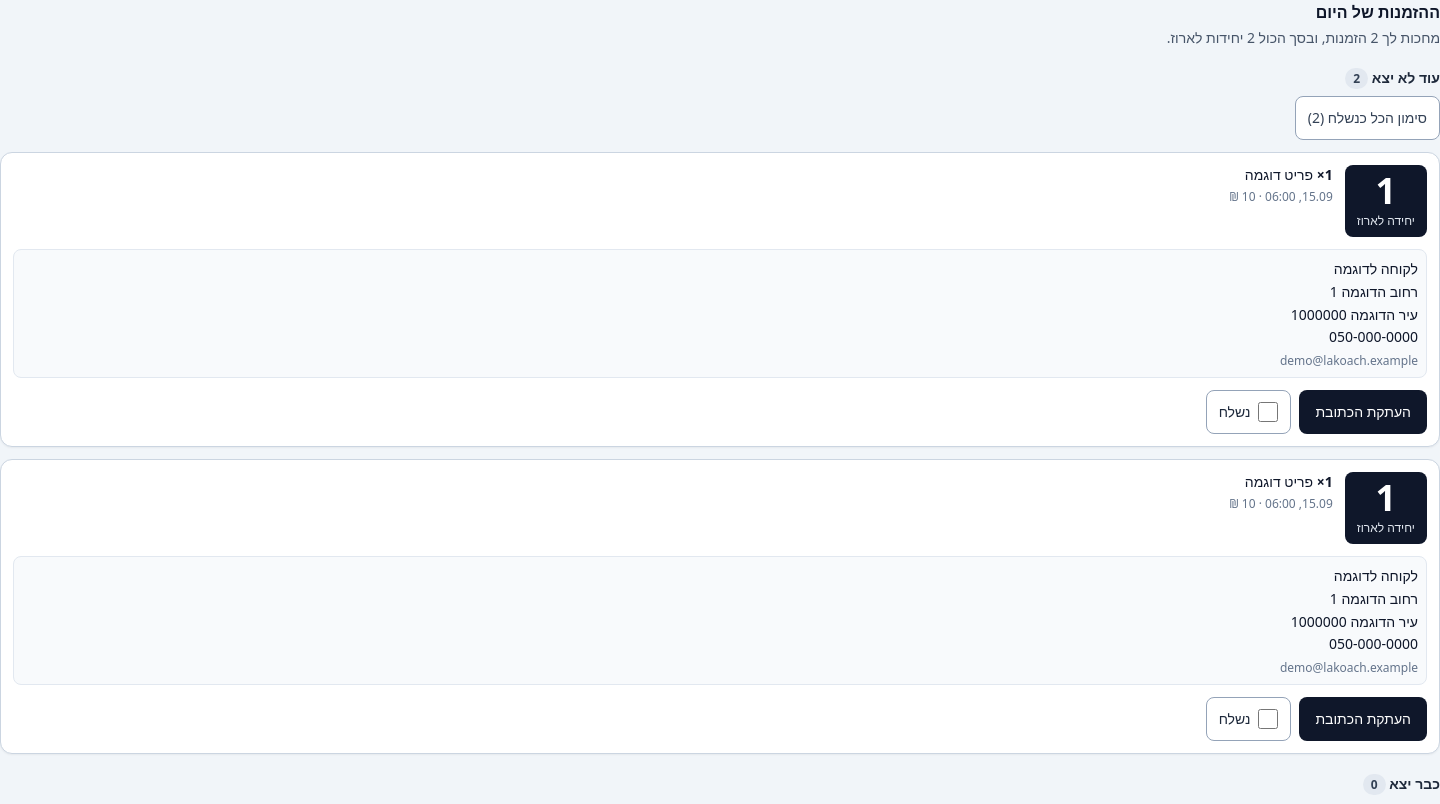
★★ באנר הביטול › הוא לא נעלם מעצמו — רק בלחיצה על סגירה
This screenshot has width=1440, height=804.
Click the button "סימון הכל כנשלח (2)".
click(1367, 118)  # box [1295,96,1439,140]
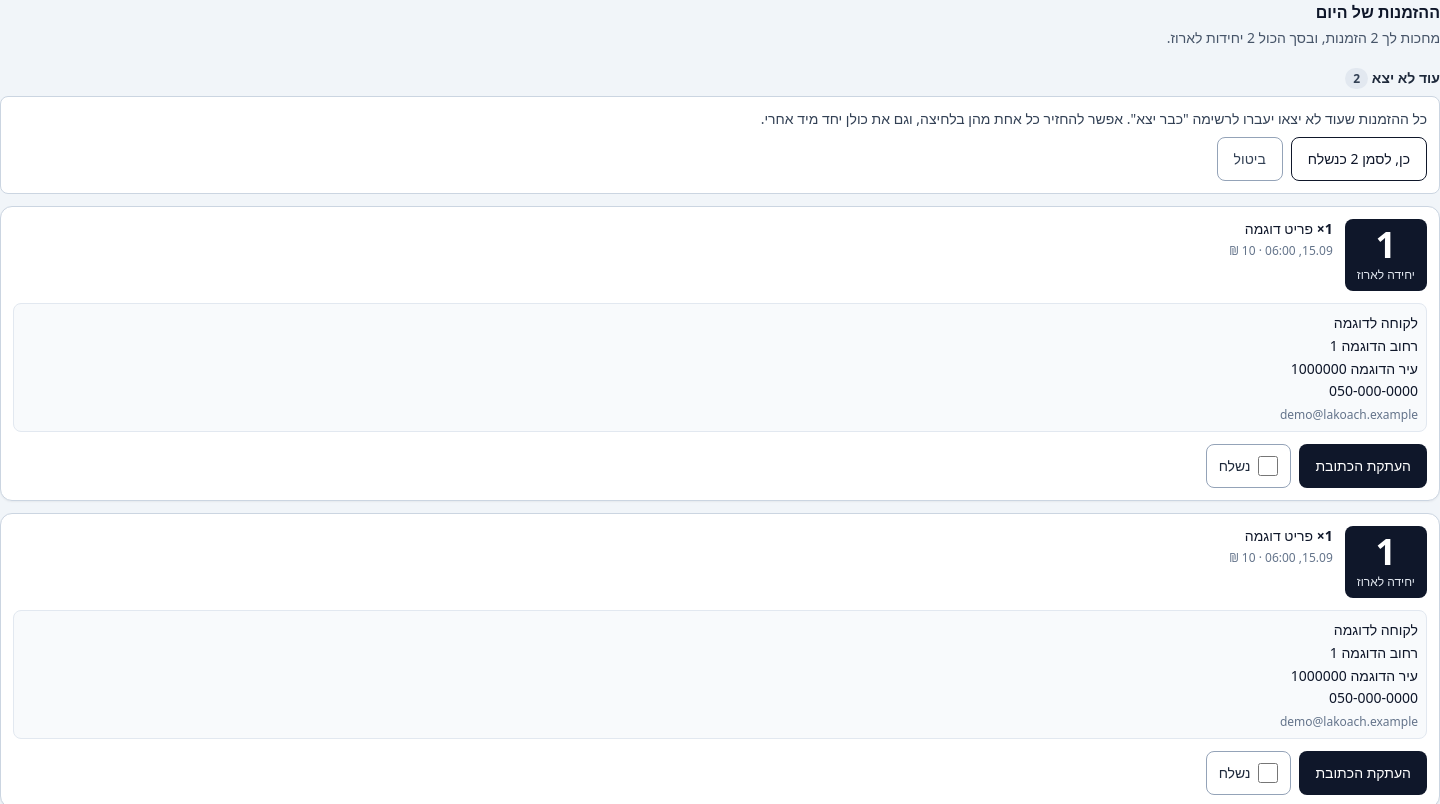
Click the button "כן, לסמן 2 כנשלח".
click(1359, 159)  # box [1291,137,1427,181]
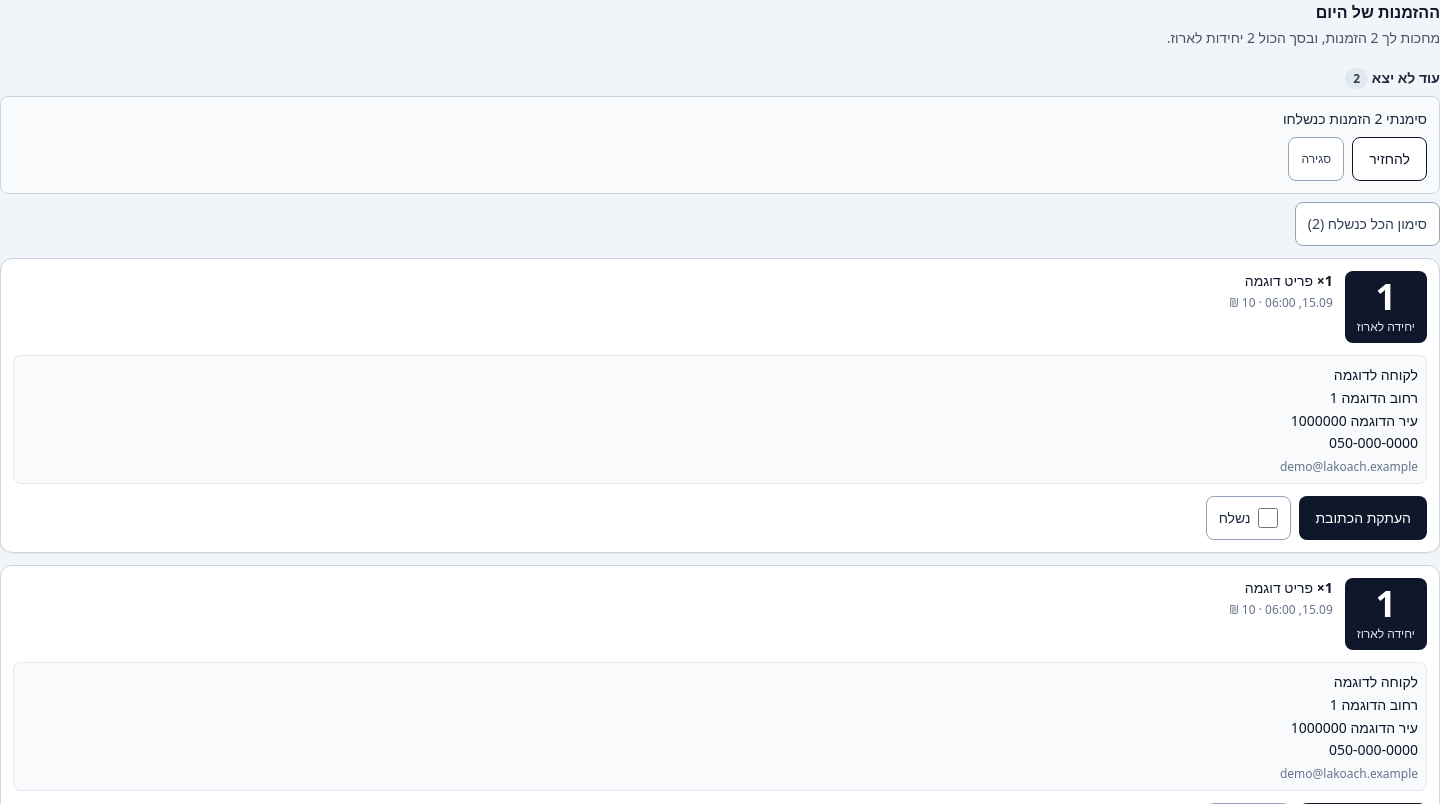
Result: the text "סימנתי 2" is shown at [1283,109,1427,128]
Click the button "סגירה".
click(1316, 159)  # box [1288,137,1344,181]
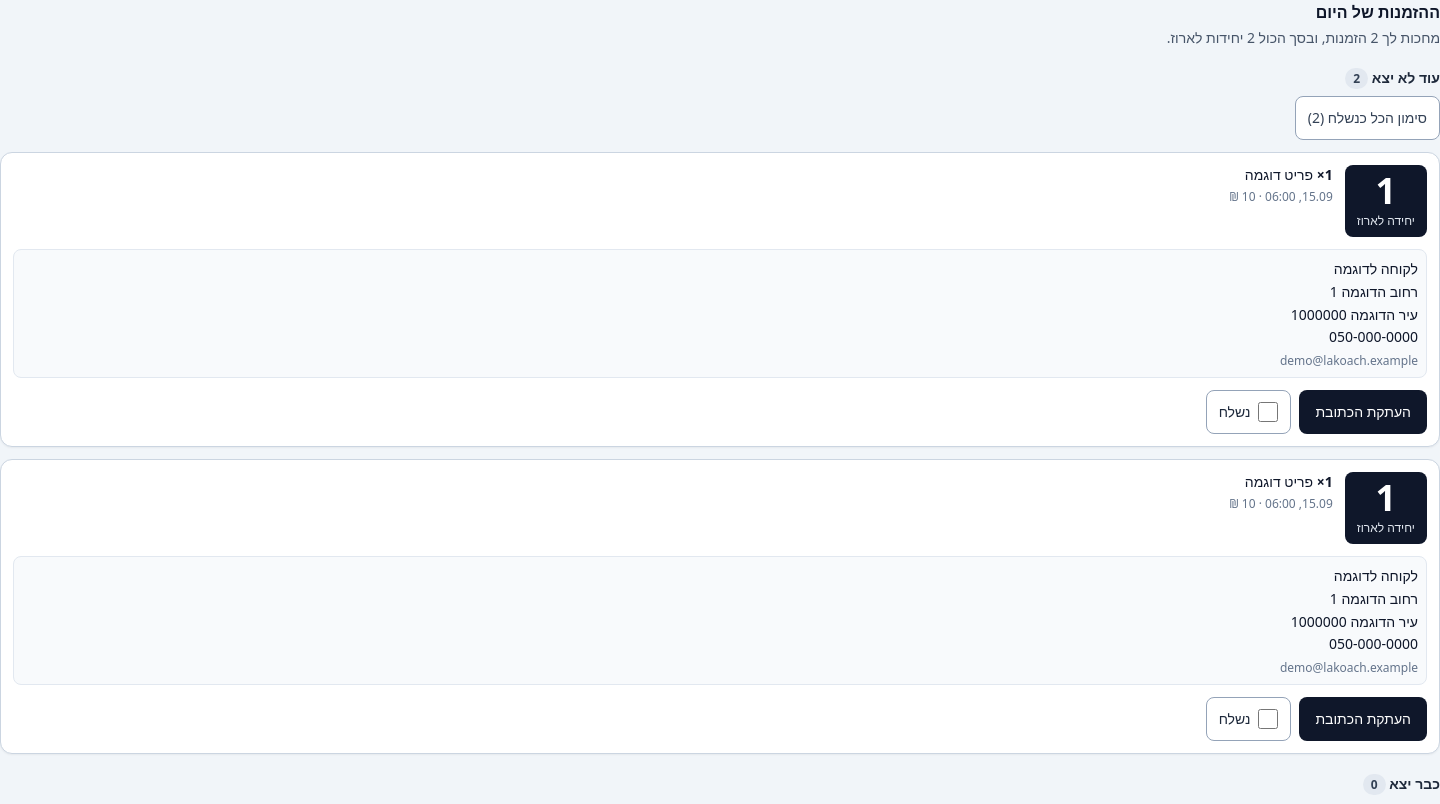
Result: the text "סימנתי 2" is gone
